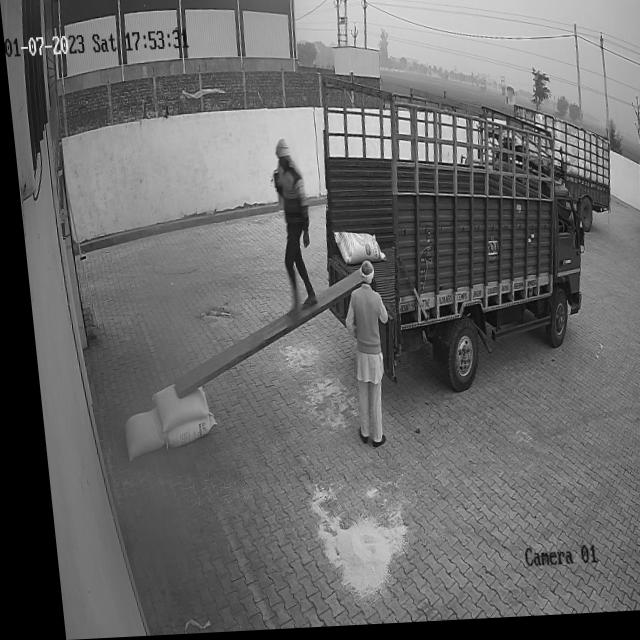sack: (142, 384, 201, 432), (113, 409, 157, 459), (327, 230, 376, 270), (155, 415, 208, 449)
